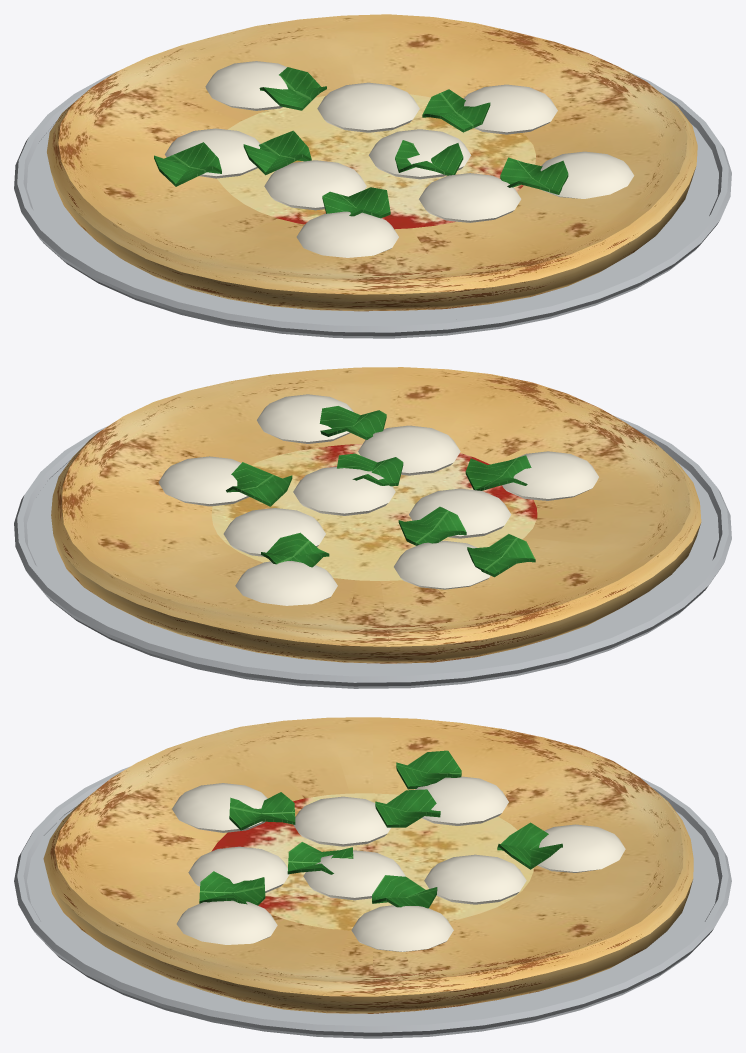
The model's file is meal_pizza_margherita.glb.
3 renders of one model, top to bottom at view 1: azimuth 30°, elevation 25°; view 2: azimuth 150°, elevation 25°; view 3: azimuth 270°, elevation 25°, orthographic.
Visible parts, largest first — view 1: meal_pizza_margherita; view 2: meal_pizza_margherita; view 3: meal_pizza_margherita.
Boxes of the visible parts, box(x1,y1,x2,y2) form: meal_pizza_margherita: box(14, 14, 731, 338); meal_pizza_margherita: box(14, 367, 731, 688); meal_pizza_margherita: box(14, 717, 731, 1038).
Size of the model in its own units: 0.336 by 0.027 by 0.336.
Materials: 5 (3 with a texture image).
